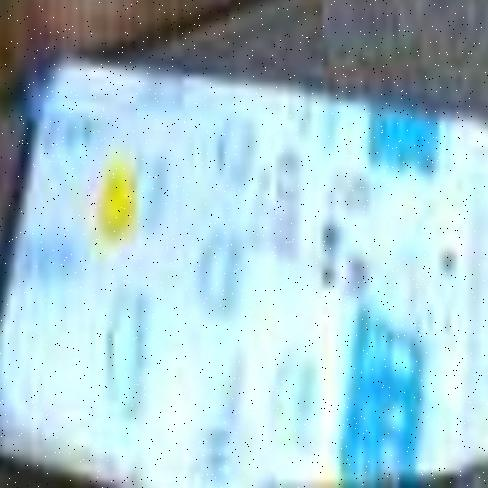Amazon: (3, 88, 488, 471)
